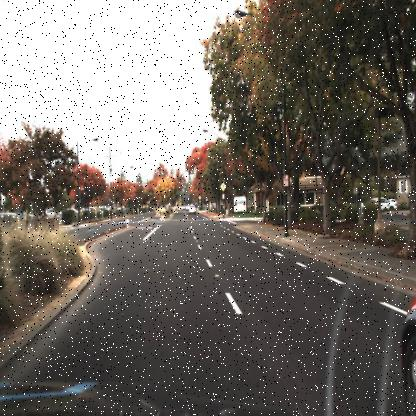car: (368, 196, 394, 213), (387, 194, 398, 213), (186, 202, 198, 216)
